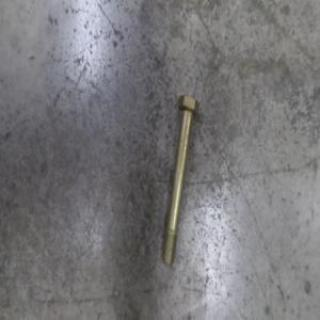Bolttrack_idkeyframe: (160, 91, 198, 267)
